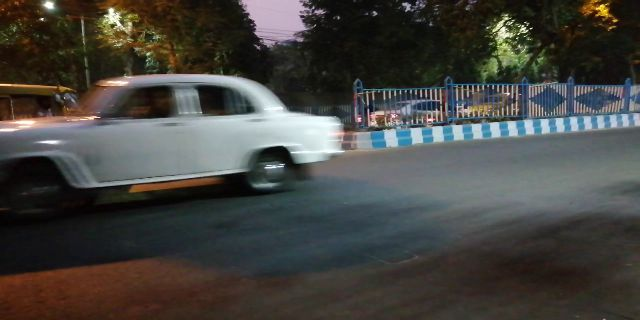Car: (11, 71, 345, 211)
